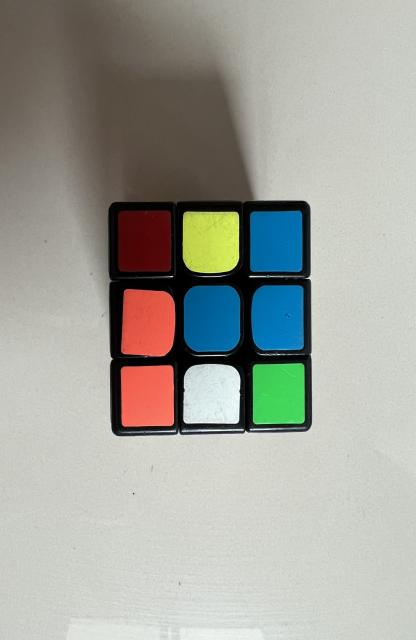Blue: (184, 285, 240, 352), (251, 285, 304, 350), (250, 211, 302, 271)
Green: (252, 364, 304, 424)
Orange: (121, 289, 176, 356), (120, 365, 174, 428)
Red: (118, 210, 171, 271)
White: (183, 364, 240, 424)
Yellow: (182, 211, 239, 274)
